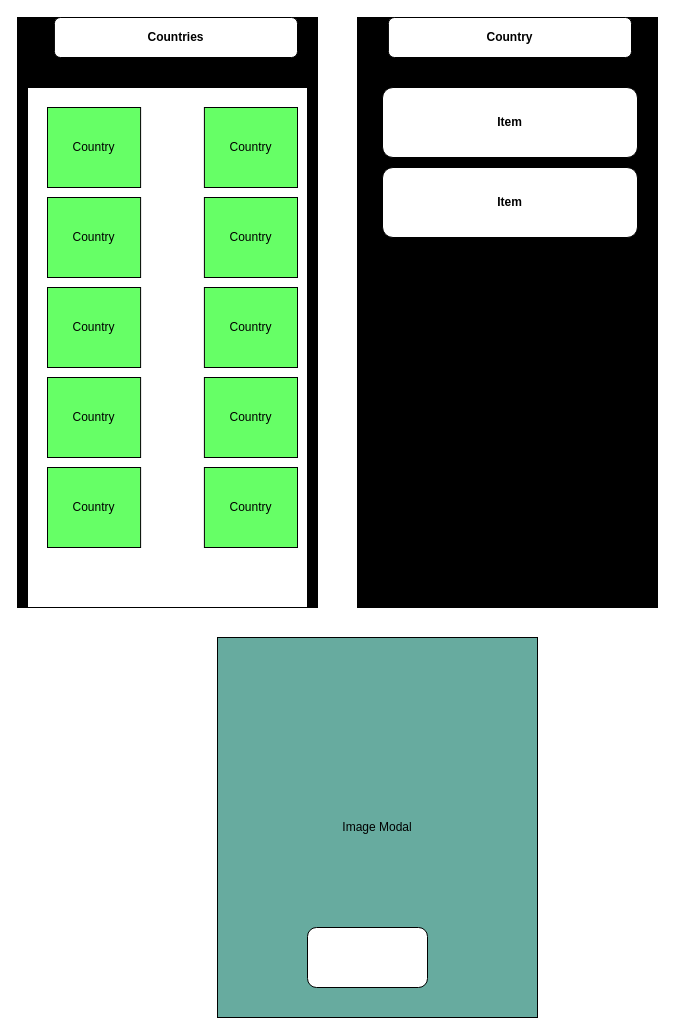
The diagram is 675 pixels wide and 1035 high, and some of its shapes have lost their labels. Here are the shapes that lost their labels. From the top down, the box of each, then its label:
(26, 86, 308, 608): Flatlist
(306, 926, 428, 988): Return to Destinations
